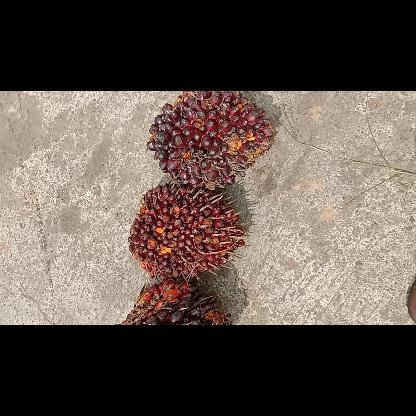Kurang masak: (145, 91, 275, 187), (127, 186, 245, 278)
TBS masak: (119, 280, 227, 324)
